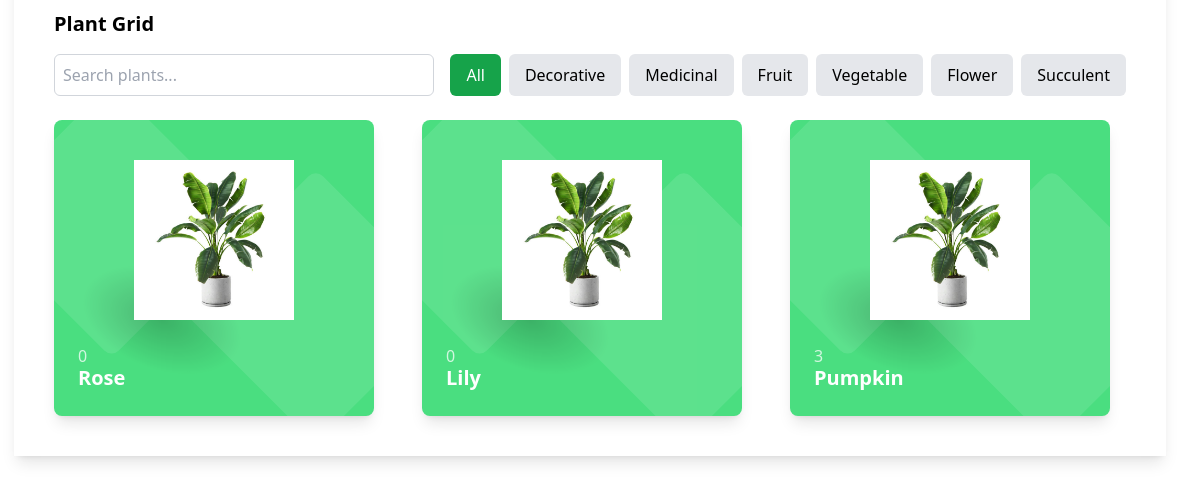
Test: MyGardenDisplayComponent › resets to all plants when "All" filter is selected
// Filter to Vegetable
Step 1. Click the button "Vegetable" → (870, 75), box [816, 54, 923, 96]
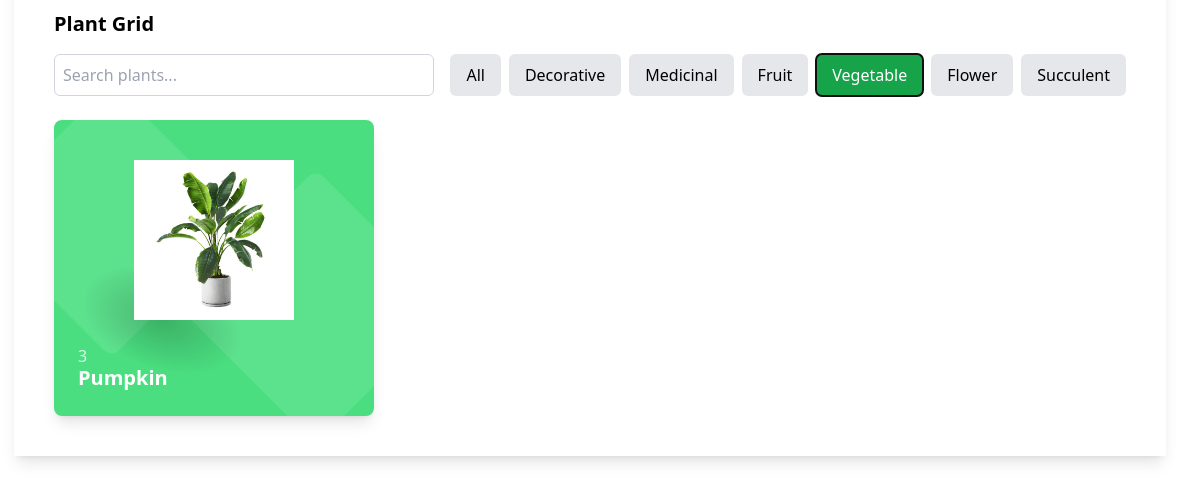
// Reset to All
Step 2. Click the button "All" → (476, 75), box [450, 54, 501, 96]
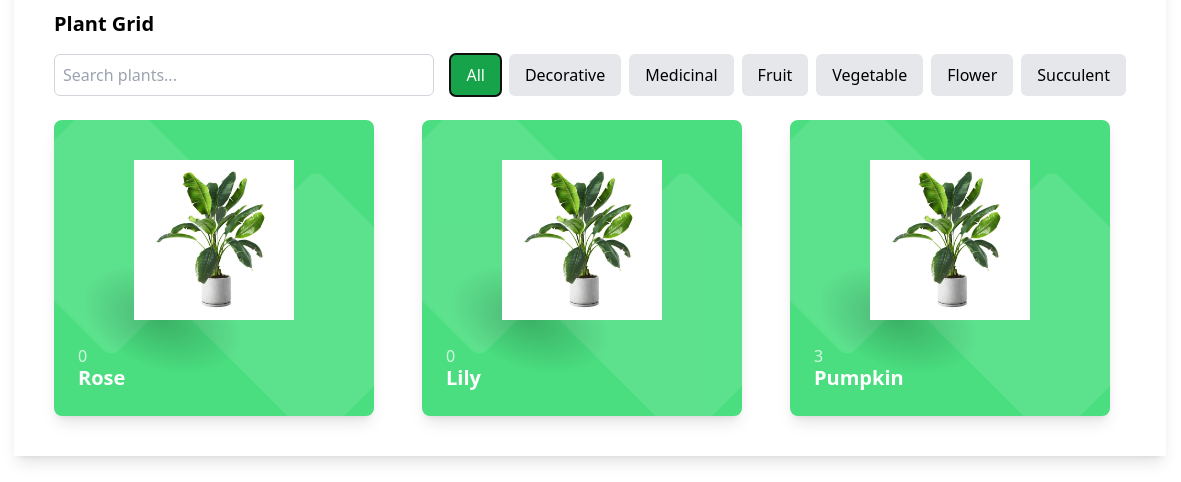
Expected: the text "Rose" is shown, [78, 364, 125, 392]
Expected: the text "Lily" is shown, [446, 364, 481, 392]
